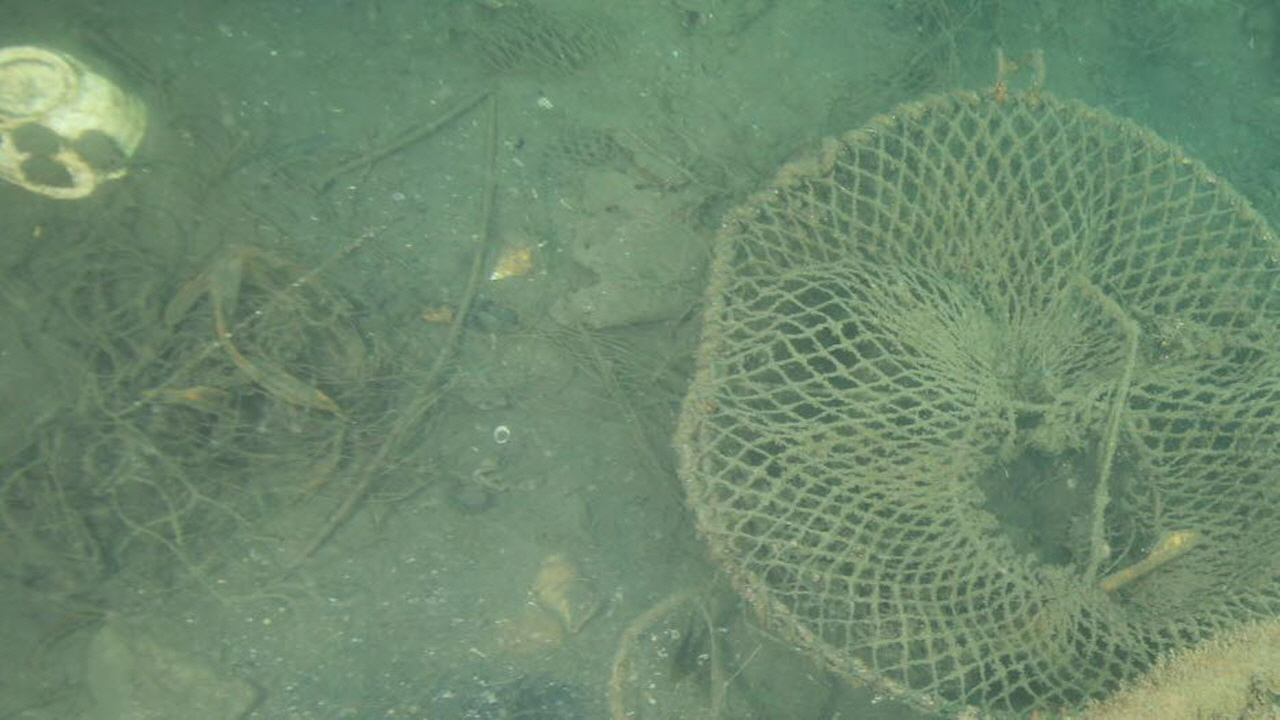circular fish trap: (672, 88, 1280, 714)
